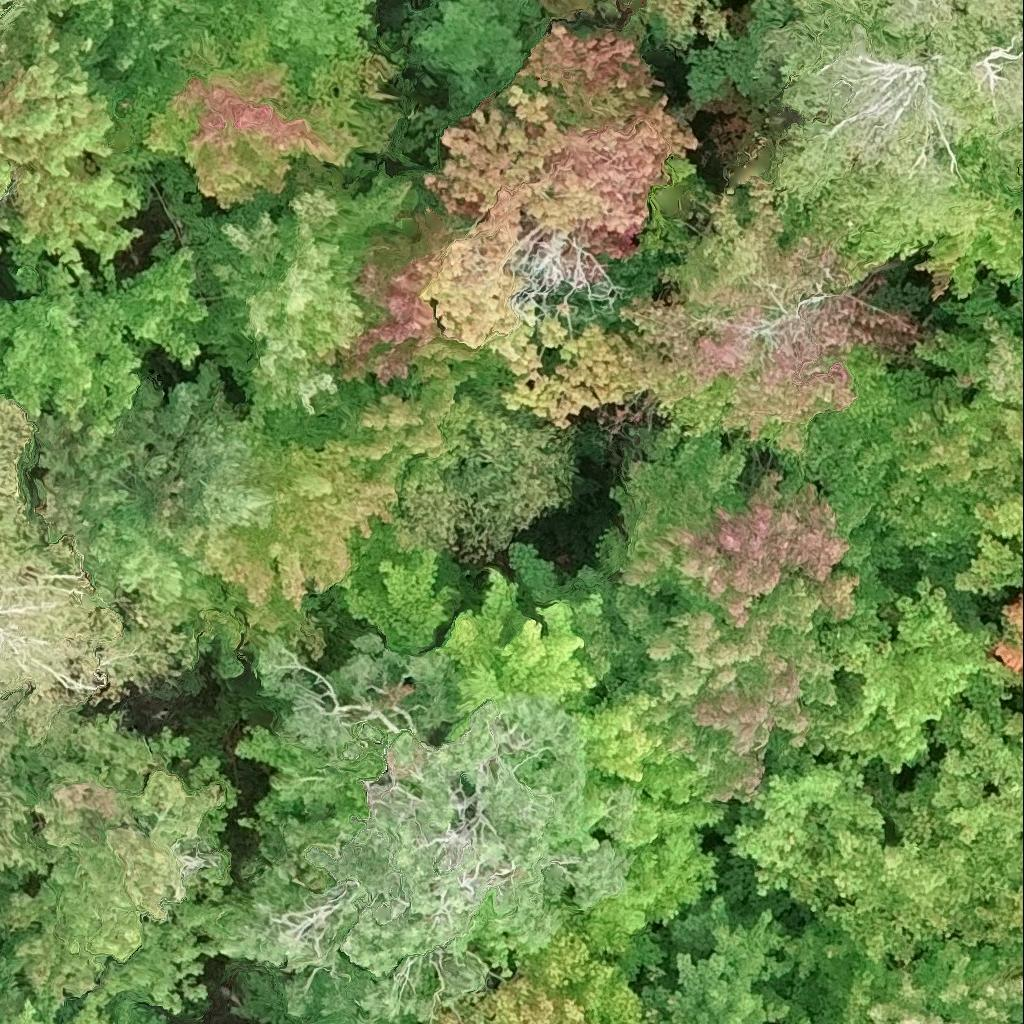crown: (214, 632, 629, 1023), (499, 178, 918, 454), (591, 423, 861, 809), (775, 260, 1023, 634), (688, 0, 1023, 265), (153, 150, 408, 430), (7, 715, 236, 1013), (423, 18, 698, 261), (148, 13, 398, 208), (163, 415, 397, 609), (802, 575, 1011, 771), (0, 534, 183, 747), (0, 248, 206, 432), (437, 570, 596, 745), (420, 187, 568, 375), (853, 140, 1023, 299), (815, 839, 1017, 969), (400, 406, 568, 561), (724, 751, 886, 911), (335, 211, 476, 385), (886, 710, 1023, 888), (422, 930, 642, 1023), (636, 900, 798, 1023), (783, 940, 1023, 1023), (318, 378, 483, 488), (334, 516, 460, 653), (234, 724, 380, 826), (797, 0, 1023, 47), (576, 693, 672, 786), (0, 392, 48, 560), (0, 775, 67, 870), (993, 595, 1023, 693), (0, 687, 28, 772), (644, 0, 710, 36), (532, 0, 606, 16), (0, 1021, 12, 1023), (0, 246, 2, 256)
